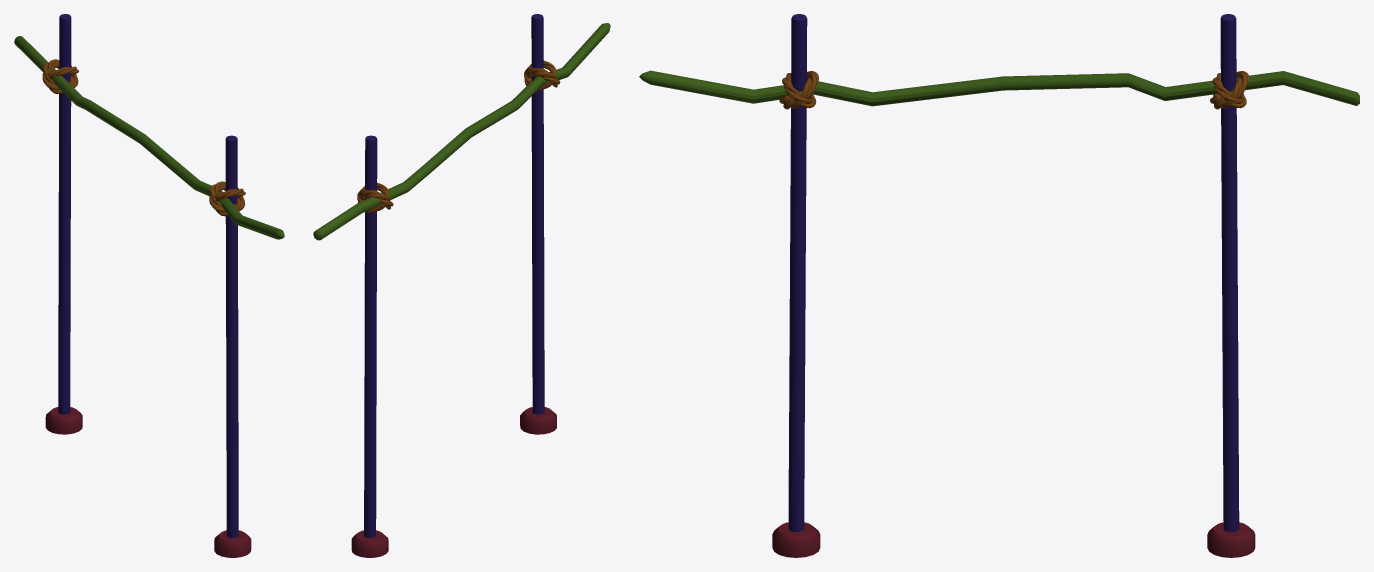
Rendered from MESH_Support.fbx.
The picture shows the model from 3 angles, left to right: view 1: azimuth 30°, elevation 25°; view 2: azimuth 150°, elevation 25°; view 3: azimuth 270°, elevation 25°; orthographic projection. The views are drawn at different scales.
Visible parts, largest first — view 1: MESH_Support; view 2: MESH_Support; view 3: MESH_Support.
Part boxes in pixels (box(x1,y1,x2,y2)): MESH_Support: box(14, 14, 284, 557); MESH_Support: box(313, 14, 610, 557); MESH_Support: box(639, 14, 1359, 557).
Size of the model in its own units: 0.1426 by 1.51 by 1.86.
